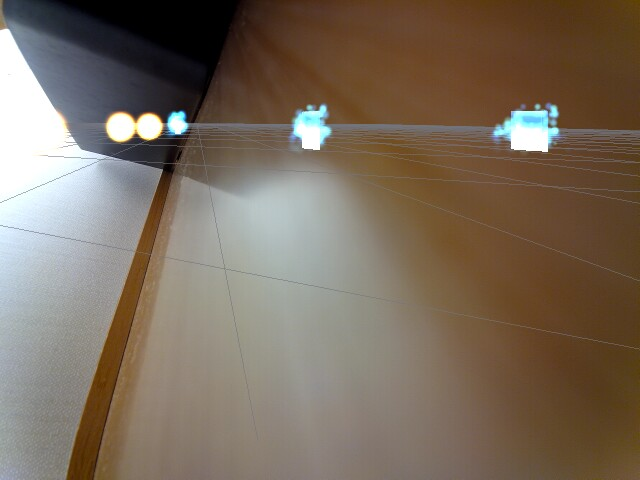firebig: (0, 87, 72, 161)
